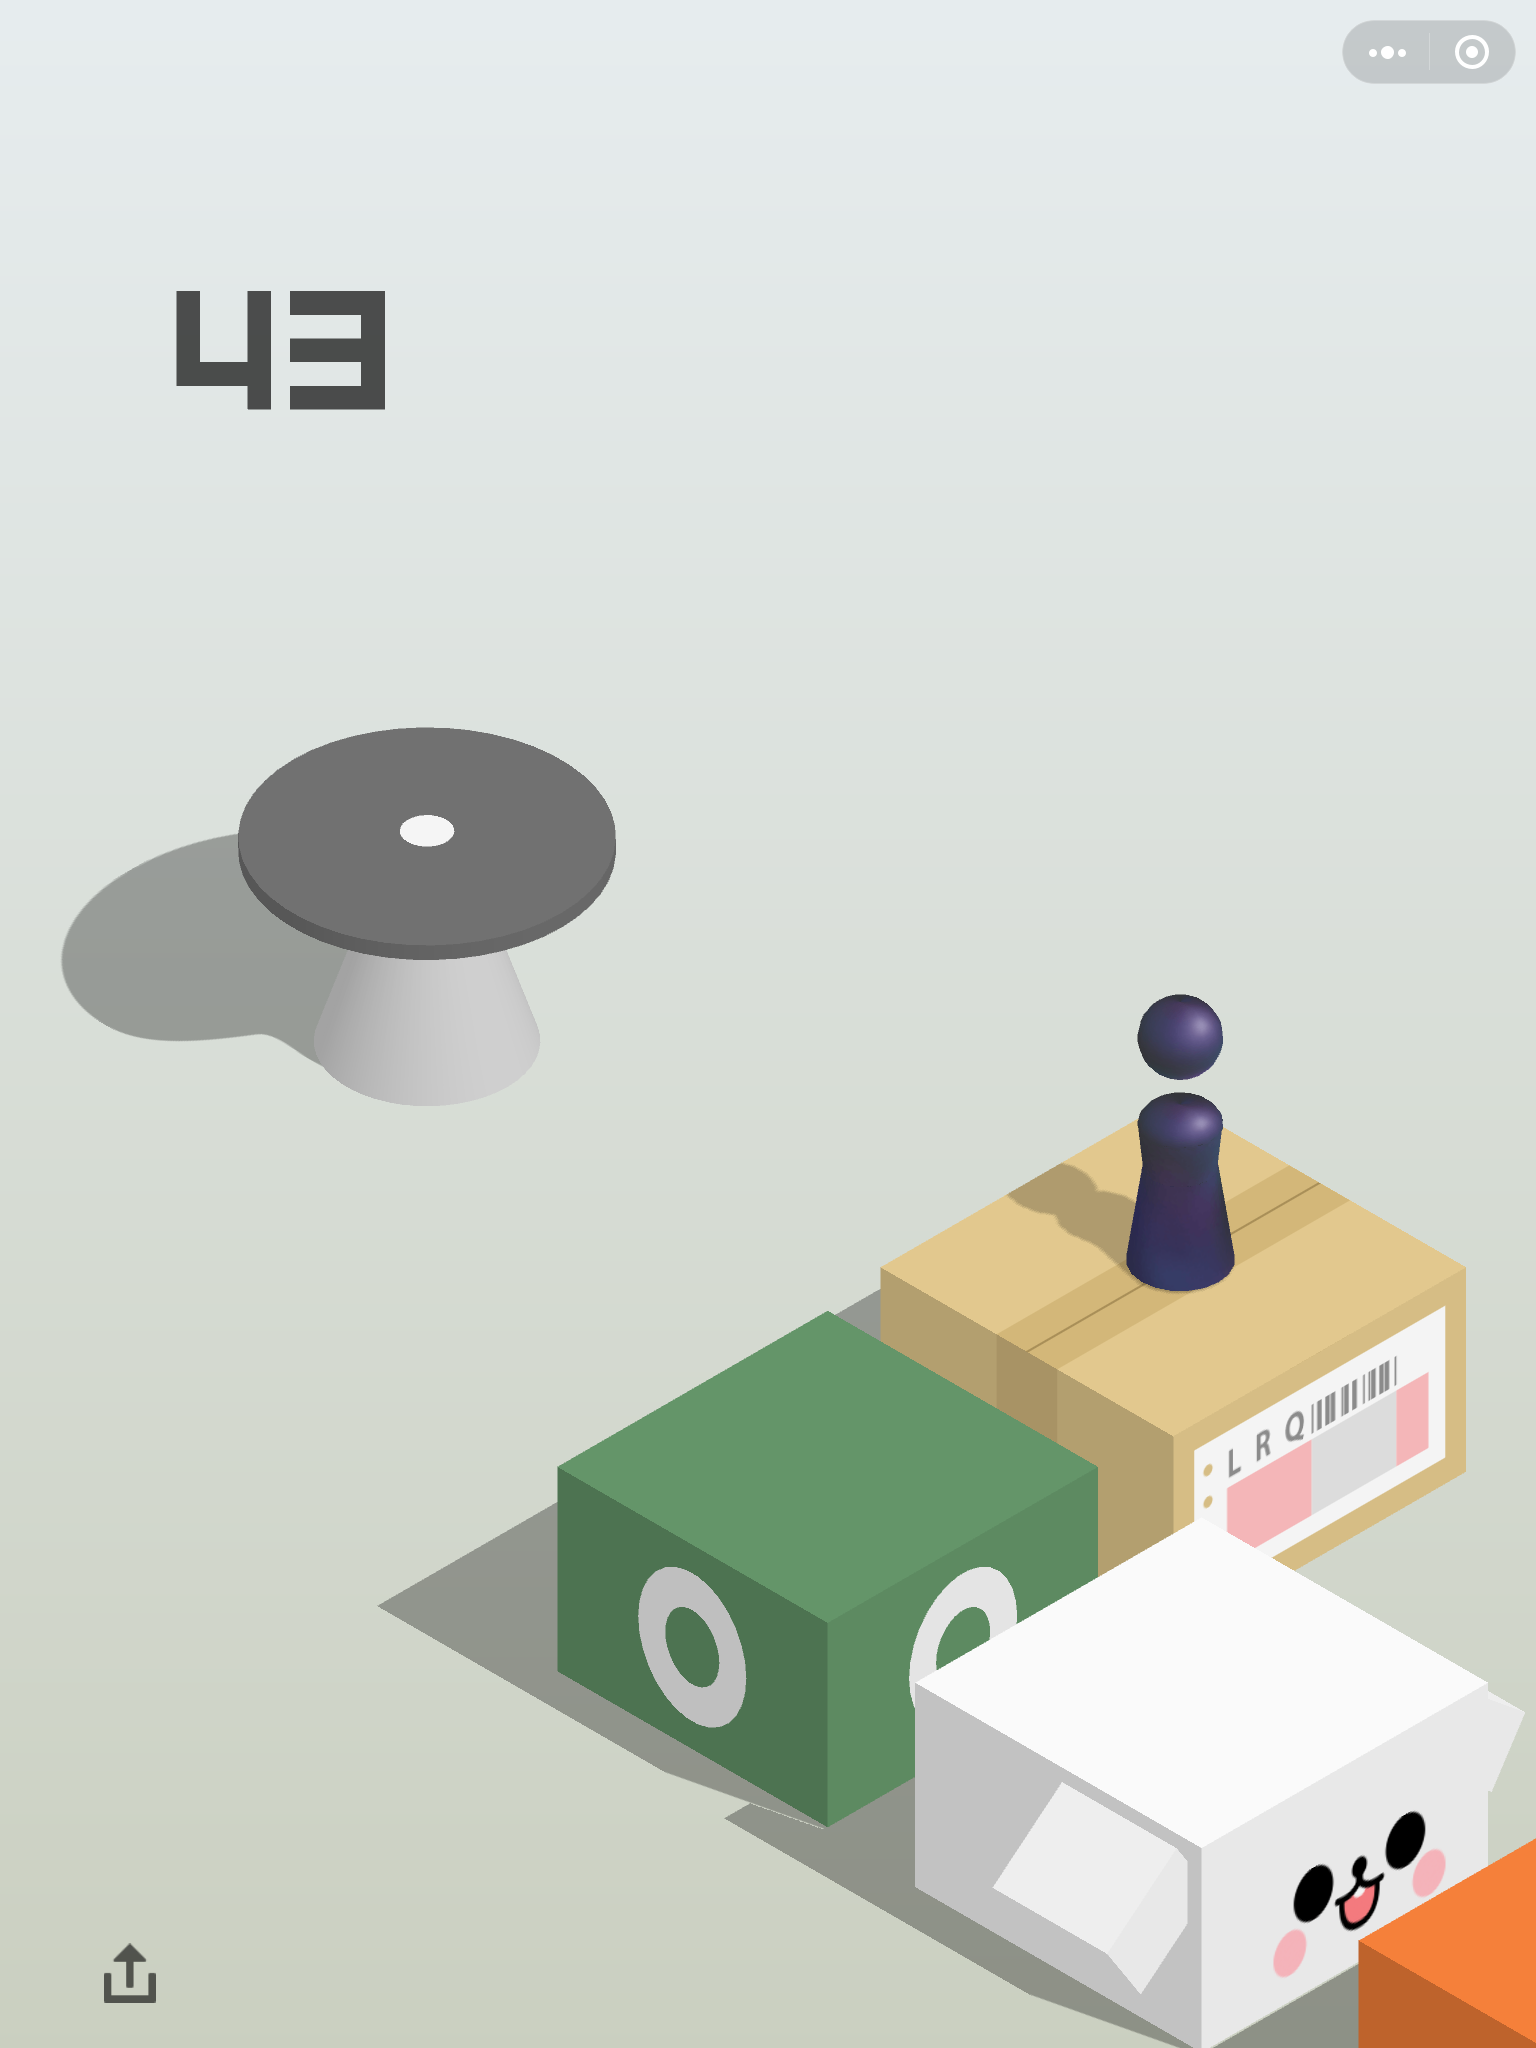c: (215, 706, 624, 1127)
f: (904, 1509, 1526, 2048), (862, 1092, 1489, 1601), (544, 1300, 1108, 1834)
r: (1105, 976, 1246, 1305)
